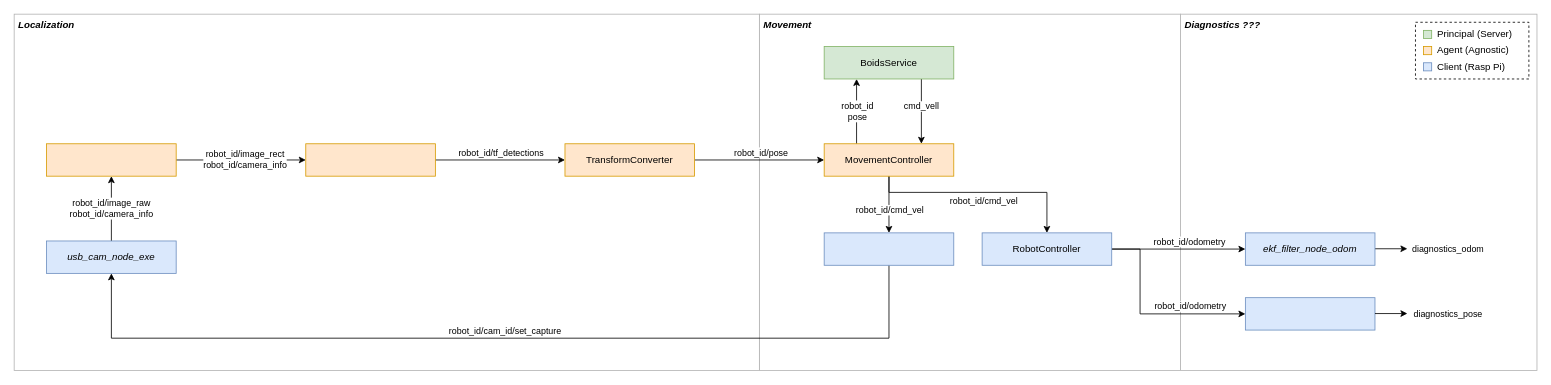
The diagram is 1551 pixels wide and 385 high, and some of its shapes have lost their labels. Here are the shapes that lost their labels. From the top down, the centre of each, then its label:
the point at 111,159: image_proc::RectifyNode
the point at 370,159: apriltag_ros
the point at 888,248: CameraPoller
the point at 1310,313: ekf_filter_node_pose
